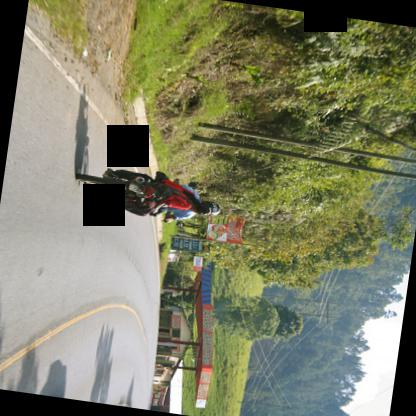handbag: (155, 183, 191, 204)
